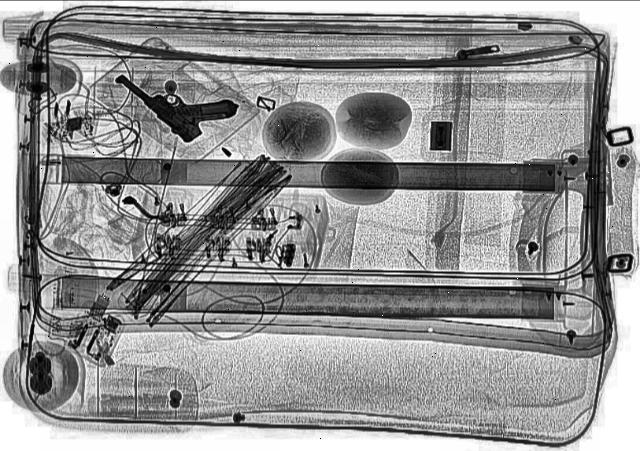Gun: (111, 51, 246, 145)
